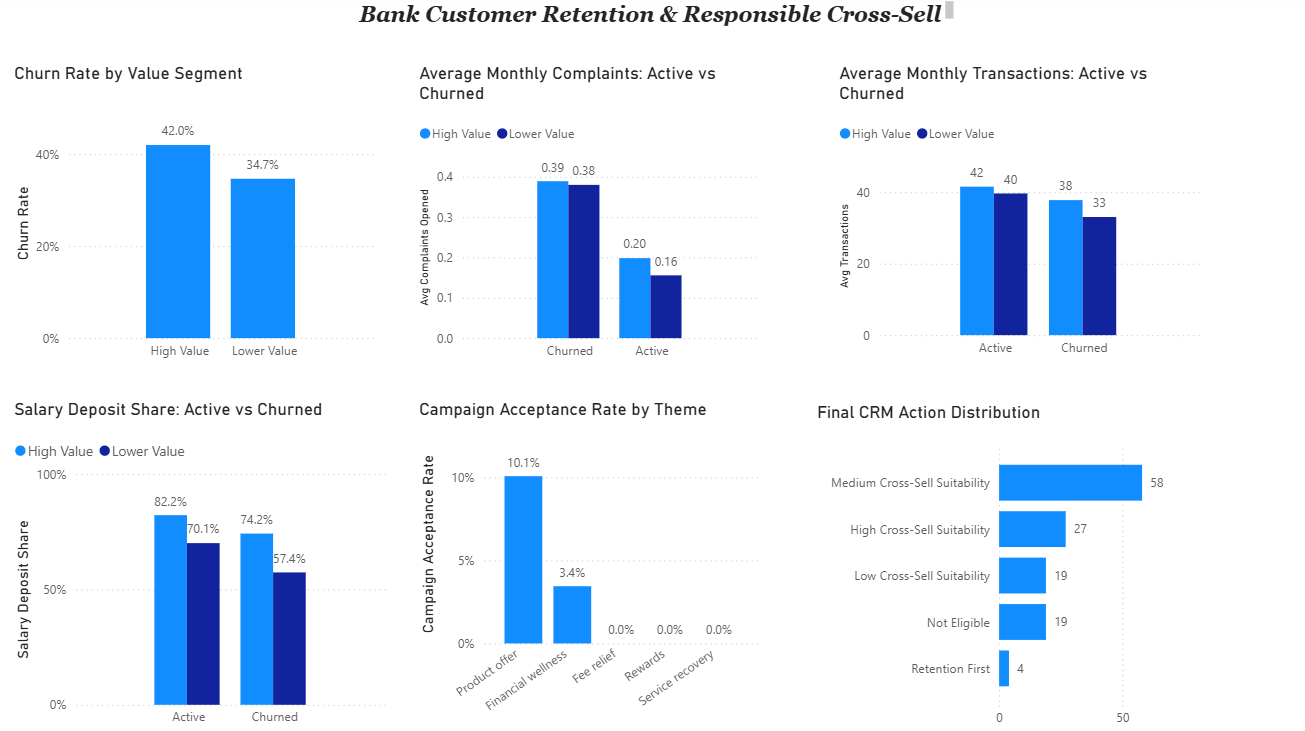

What the dashboard file says about the page in this screenshot:
{"tool":"powerbi","page":{"name":"Page 1","canvas":[1280,720],"ordinal":0},"visuals":[{"type":"clusteredColumnChart","title":"Churn Rate by Value Segment","fields":{"Category":["customers_cleaned.customer_value_segment"],"Y":["customers_cleaned.Churn Rate"]},"box":[11.7,65.2,360.9,297.6],"z":0},{"type":"clusteredColumnChart","title":"Average Monthly Complaints: Active vs Churned","fields":{"Category":["customers_cleaned.customer_status"],"Series":["customers_cleaned.customer_value_segment"],"Y":["monthly_activity_cleaned.Avg Complaints Opened"]},"box":[405.6,65.2,340.4,297.6],"z":1000},{"type":"clusteredColumnChart","title":"Average Monthly Transactions: Active vs Churned","fields":{"Category":["customers_cleaned.customer_status"],"Series":["customers_cleaned.customer_value_segment"],"Y":["monthly_activity_cleaned.Avg Transactions"]},"box":[814.1,65.2,360.9,294.7],"z":2000},{"type":"clusteredColumnChart","title":"Salary Deposit Share: Active vs Churned","fields":{"Category":["customers_cleaned.customer_status"],"Series":["customers_cleaned.customer_value_segment"],"Y":["monthly_activity_cleaned.Salary Deposit Share"]},"box":[11.7,392,372.5,327.8],"z":3000},{"type":"clusteredColumnChart","title":"Campaign Acceptance Rate by Theme","fields":{"Category":["campaign_history_cleaned.campaign_theme"],"Y":["monthly_activity_cleaned.Campaign Acceptance Rate"]},"box":[405.6,392,340.4,327.8],"z":4000},{"type":"clusteredBarChart","title":"Final CRM Action Distribution","fields":{"Category":["Cross_Sell_Summary.final_action"],"Y":["Cross_Sell_Summary.CRM Customers"]},"box":[792.7,394.9,354,324.9],"z":5000},{"type":"textbox","box":[343.3,0,592.3,34],"z":6000}]}

Visuals, with their boxes in screenshot pixels (x1, y1, x2, y2), scaled from the page's 1280x720 canvas onto the 1305x731 screenshot:
"Churn Rate by Value Segment" clusteredColumnChart: (x1=12, y1=66, x2=380, y2=368)
"Average Monthly Complaints: Active vs Churned" clusteredColumnChart: (x1=414, y1=66, x2=761, y2=368)
"Average Monthly Transactions: Active vs Churned" clusteredColumnChart: (x1=830, y1=66, x2=1198, y2=365)
"Salary Deposit Share: Active vs Churned" clusteredColumnChart: (x1=12, y1=398, x2=392, y2=730)
"Campaign Acceptance Rate by Theme" clusteredColumnChart: (x1=414, y1=398, x2=761, y2=730)
"Final CRM Action Distribution" clusteredBarChart: (x1=808, y1=401, x2=1169, y2=730)
textbox: (x1=350, y1=0, x2=954, y2=35)
